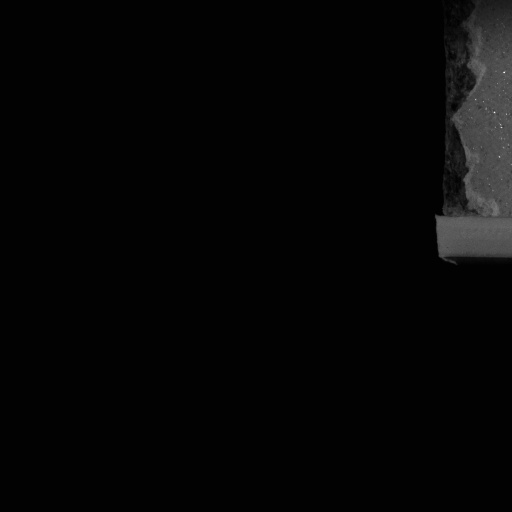bengque: (434, 114, 480, 218), (440, 9, 480, 118)
